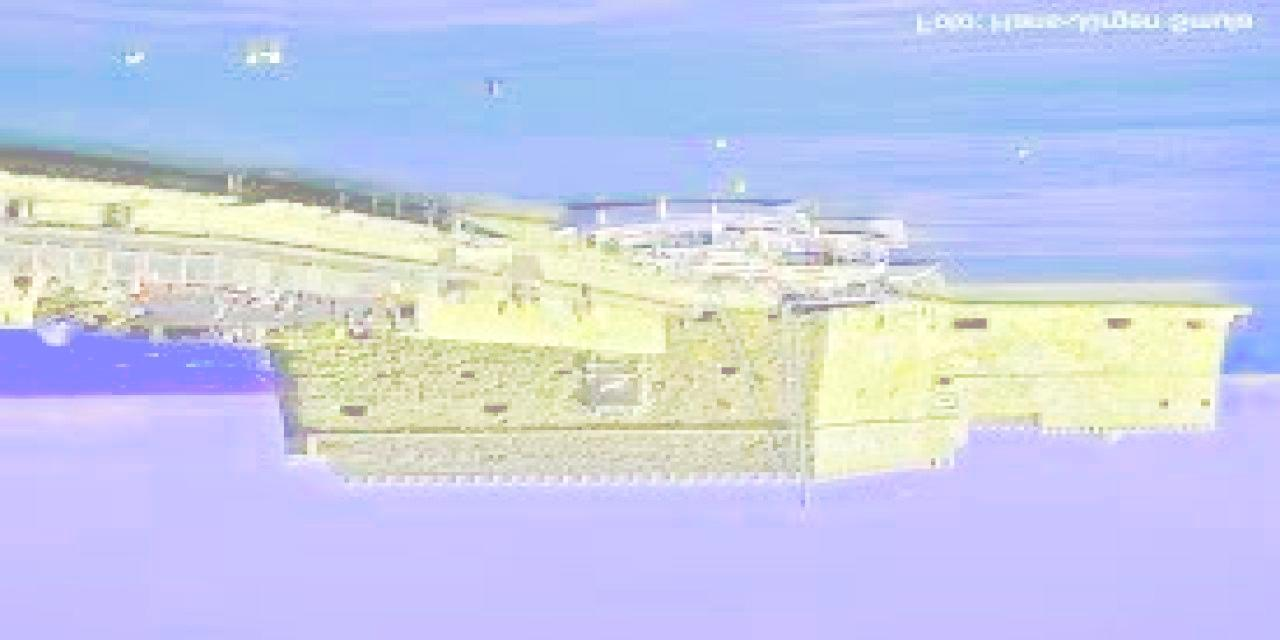Kules: (268, 304, 1255, 494)
